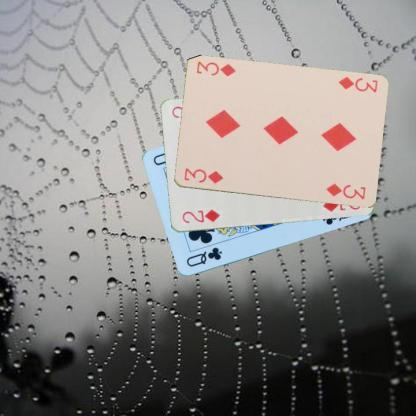2d: (179, 207, 221, 225)
3d: (336, 74, 379, 94), (182, 166, 224, 185)
Qc: (184, 245, 223, 269)
